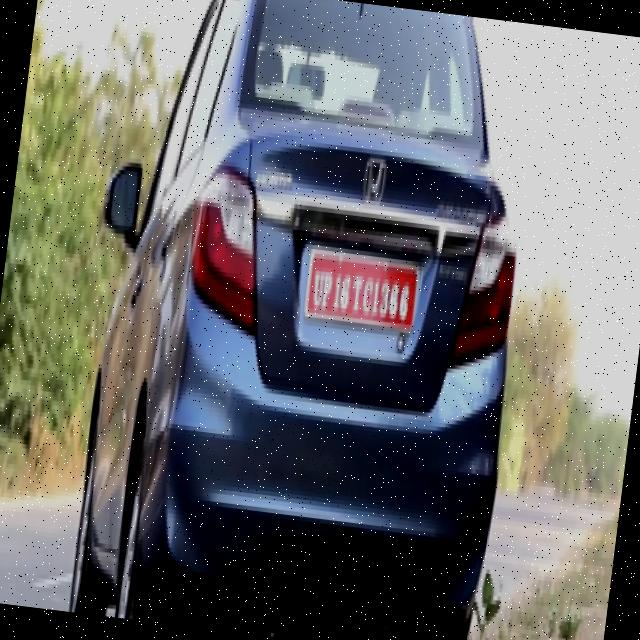Autre: (302, 247, 423, 343)
